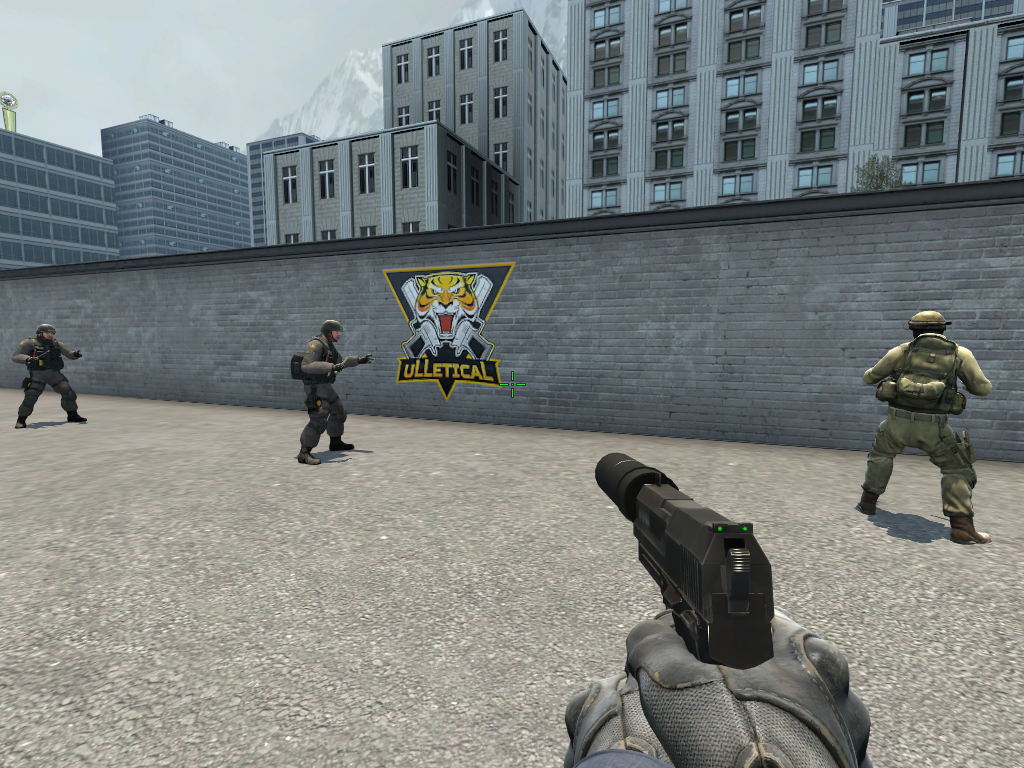ct head: (908, 311, 950, 341), (318, 316, 345, 343), (37, 323, 56, 343)
